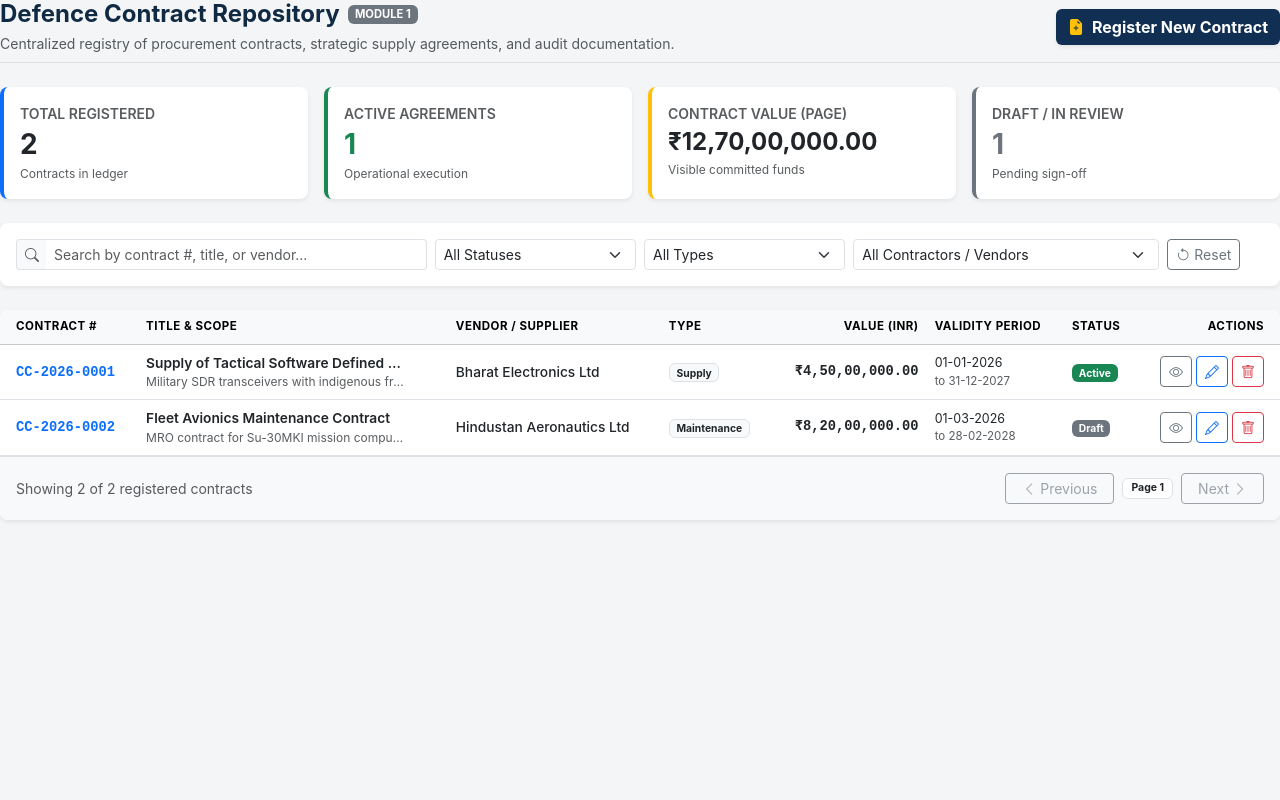
Test case: Phase 4 — Contract Repository and Lifecycle Suite › ContractListPage Component › opens delete confirmation modal when administrator clicks delete
The width and height of the screenshot is (1280, 800).
Check: the link "CC-2026-0001" is shown, box [16,365,115,380]
Click the button titled "Delete contract" in the row of "CC-2026-0001" at (1248,372), box [1232,356,1264,388]
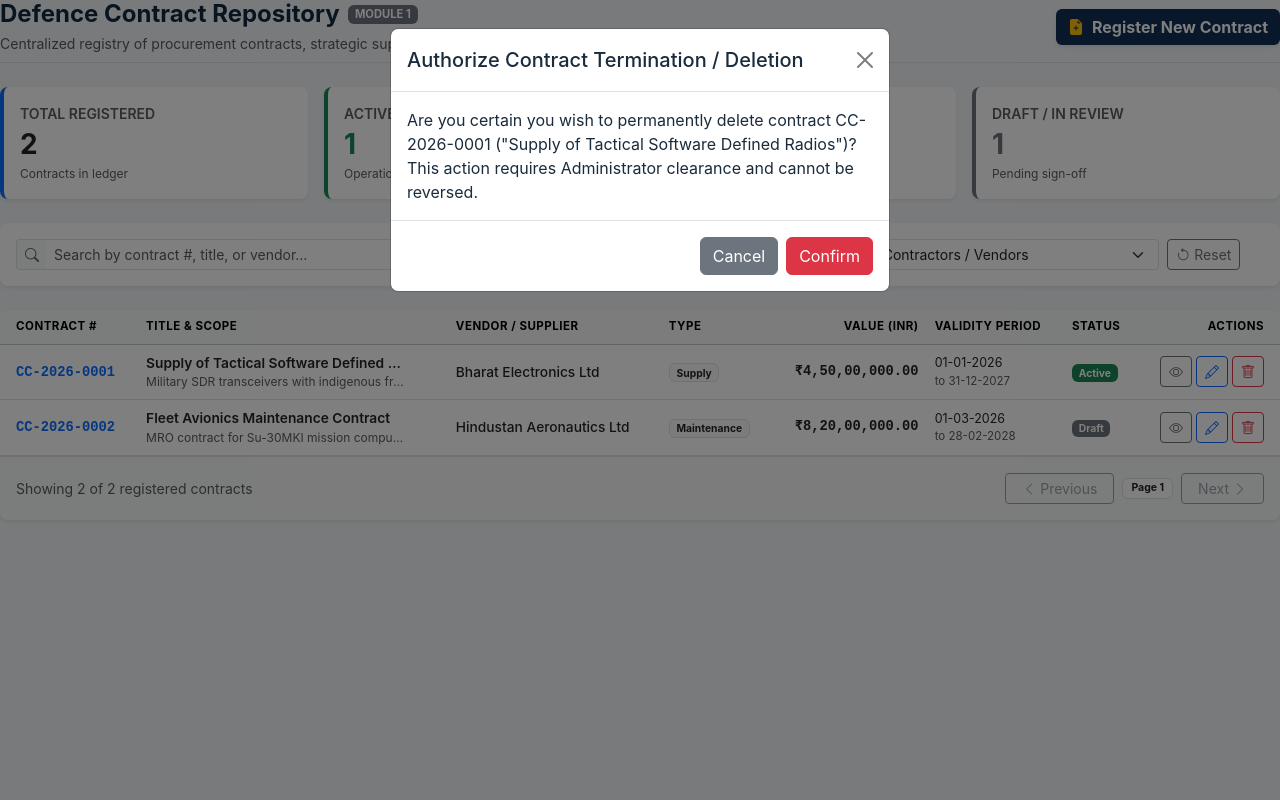
Check: the heading "Authorize Contract Termination / Deletion" is shown, box [407,45,804,75]
Check: the text "permanently delete contract CC-2026-0001" is shown, box [407,110,866,202]
